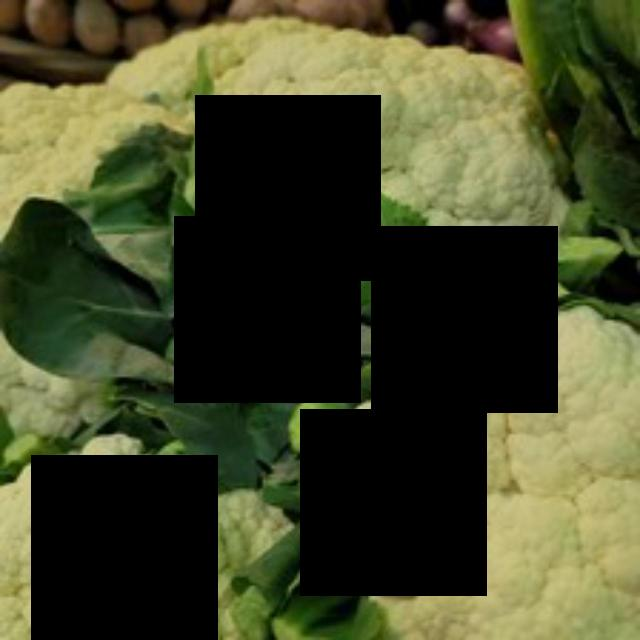cauliflower: (308, 288, 637, 637)
